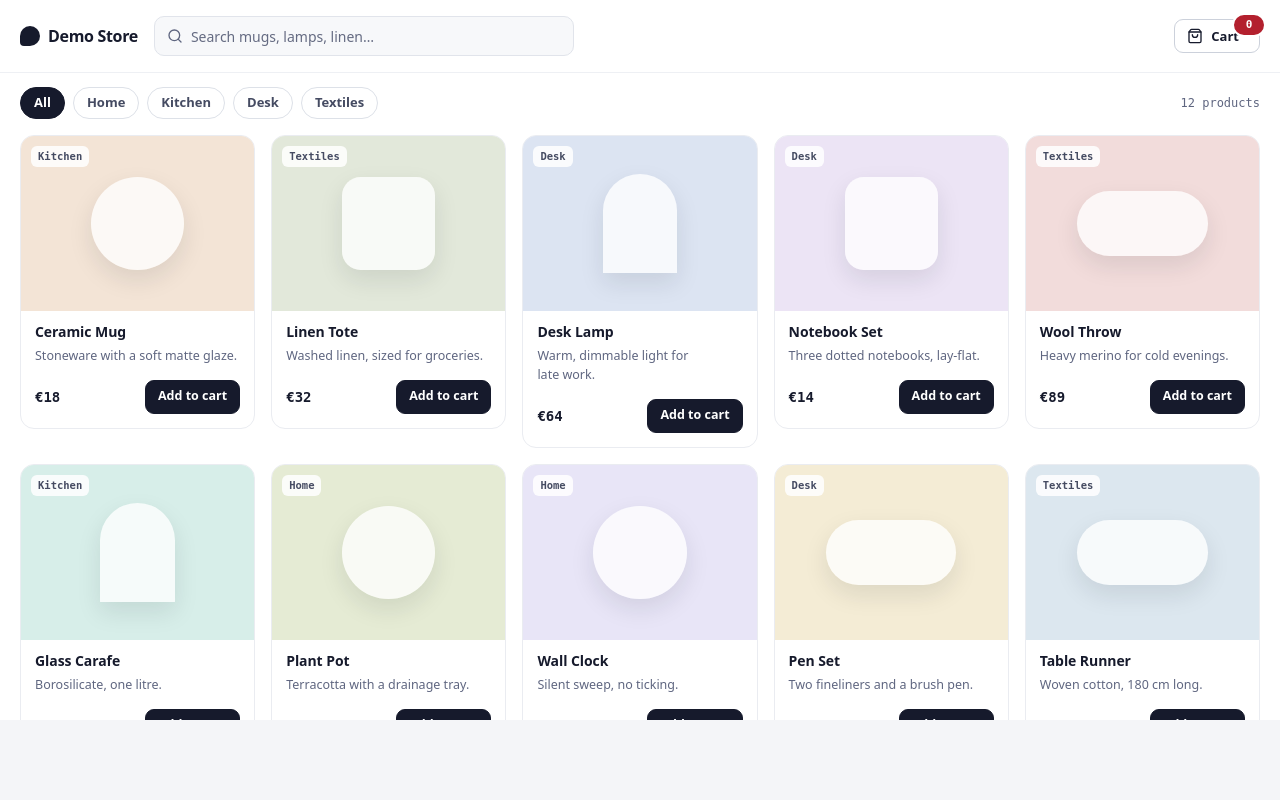
Test: Demo Store › filters by category
Click the button "Kitchen": click(186, 103) [147, 87, 225, 119]
Wait 300 ms
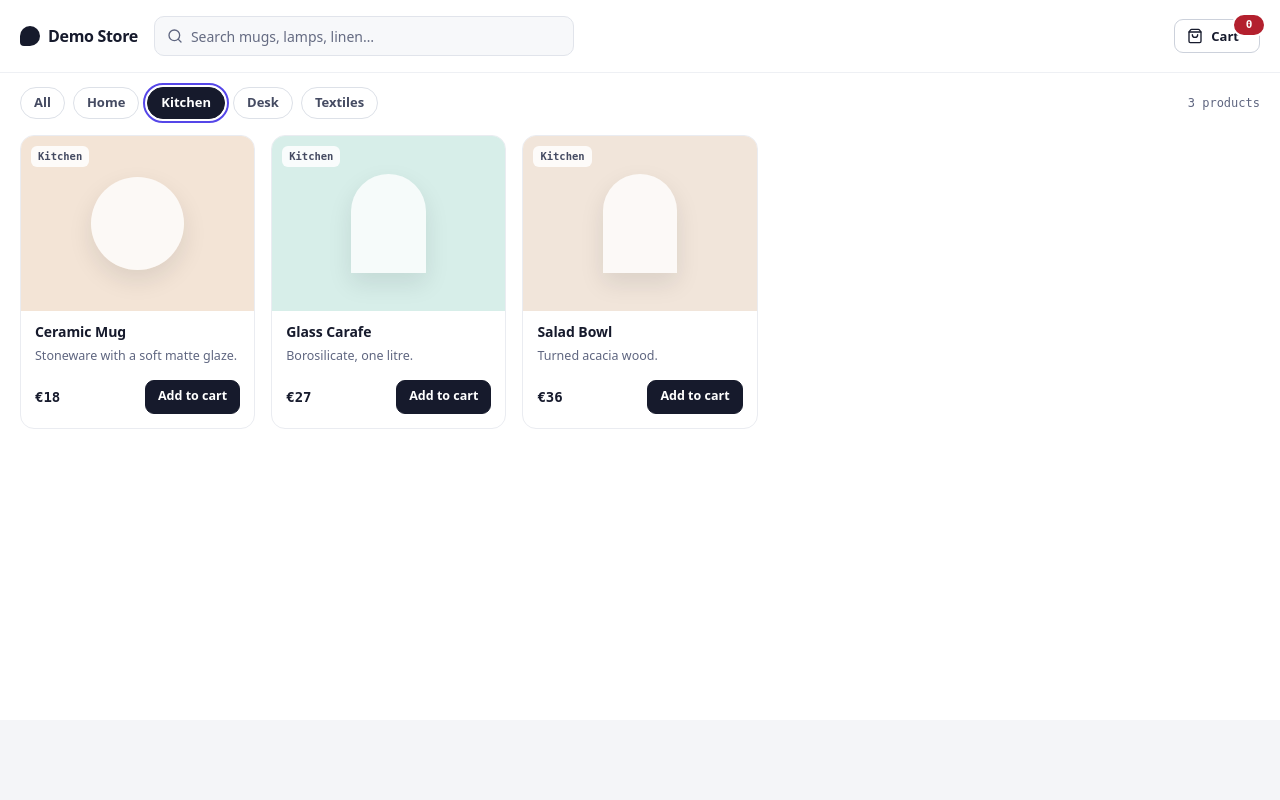
Expected: the button "Kitchen" is pressed, [147, 87, 225, 119]
